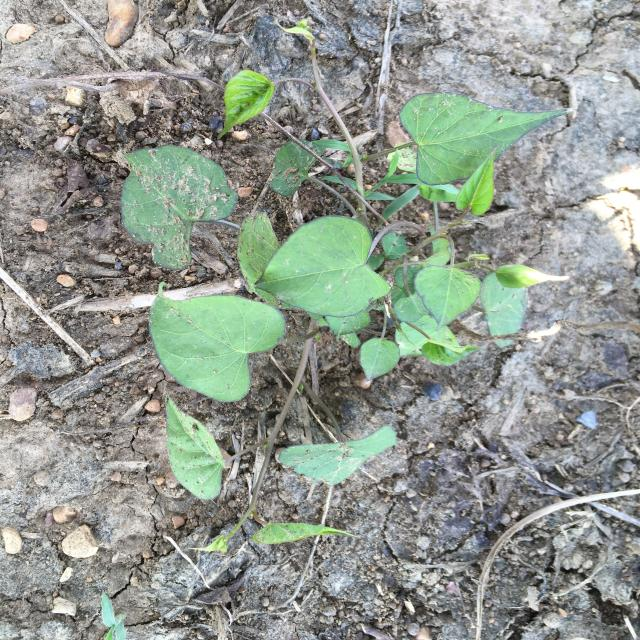MorningGlory: (120, 20, 570, 552)
